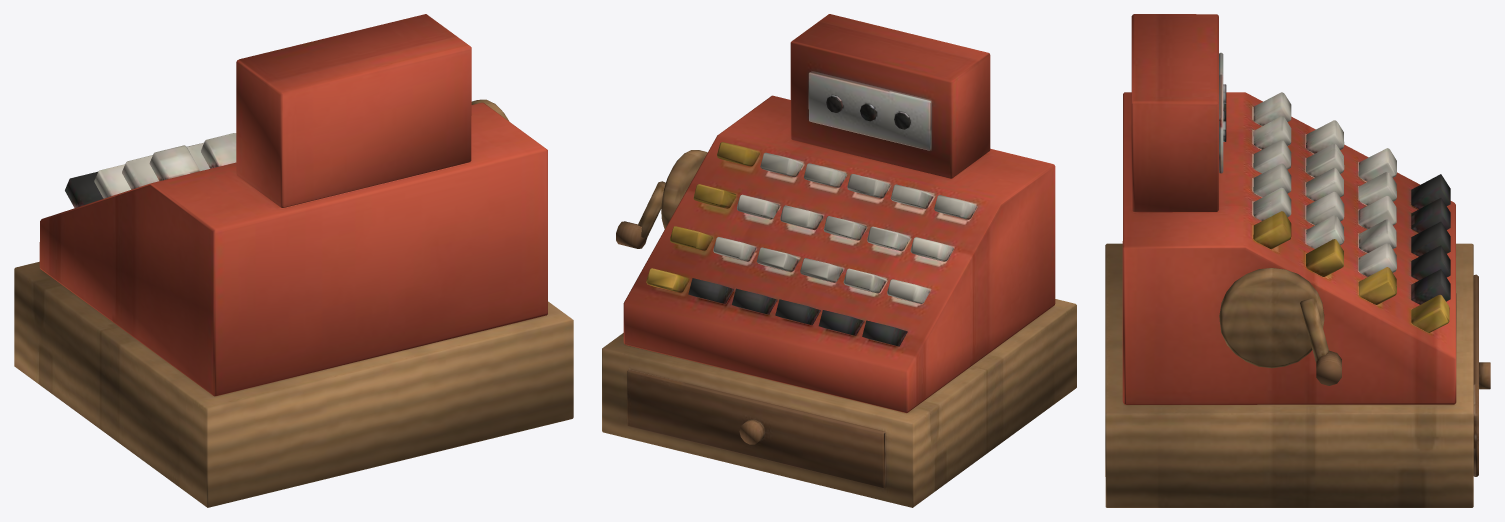
Rendered from register.glb.
3 renders of one model, left to right at view 1: azimuth 30°, elevation 25°; view 2: azimuth 150°, elevation 25°; view 3: azimuth 270°, elevation 25°, orthographic. The views are drawn at different scales.
Visible parts, largest first — view 1: prop_register_felt, prop_register_wood; view 2: prop_register_felt, prop_register_wood; view 3: prop_register_felt, prop_register_wood.
Part boxes in pixels (bbox=[...]): prop_register_felt: bbox=[39, 14, 547, 396]; prop_register_wood: bbox=[14, 99, 573, 507]; prop_register_felt: bbox=[623, 14, 1055, 413]; prop_register_wood: bbox=[602, 150, 1076, 507]; prop_register_felt: bbox=[1122, 14, 1456, 404]; prop_register_wood: bbox=[1105, 243, 1490, 507].
Bounding box in the file's own units: 1.05 × 0.919 × 0.8774.
2 materials, 2 textured.
